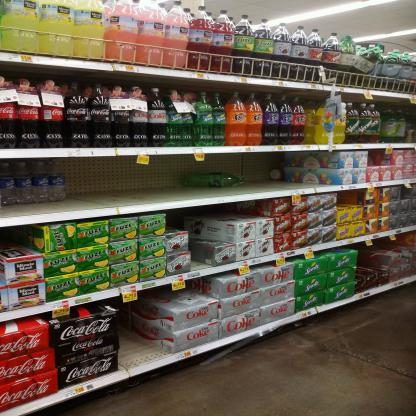Void: (71, 164, 180, 196), (119, 308, 162, 357), (190, 233, 212, 266), (6, 230, 38, 250), (249, 156, 270, 185), (196, 209, 259, 218), (359, 246, 373, 268), (342, 195, 355, 203)
